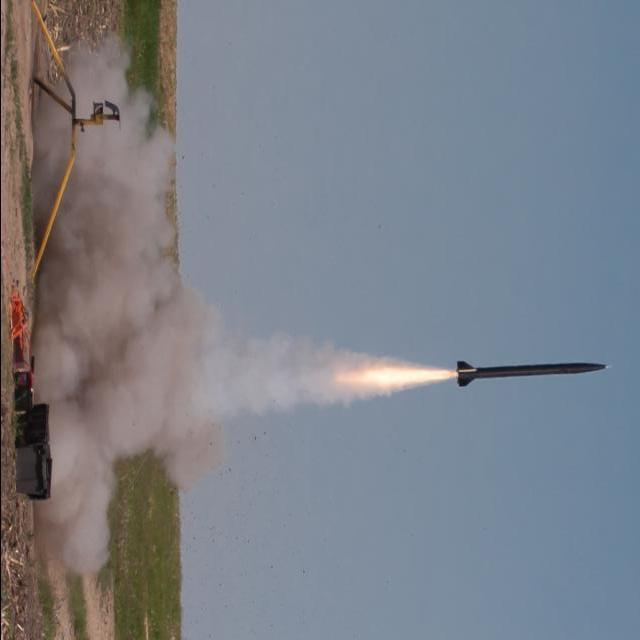missile: (454, 354, 610, 387)
